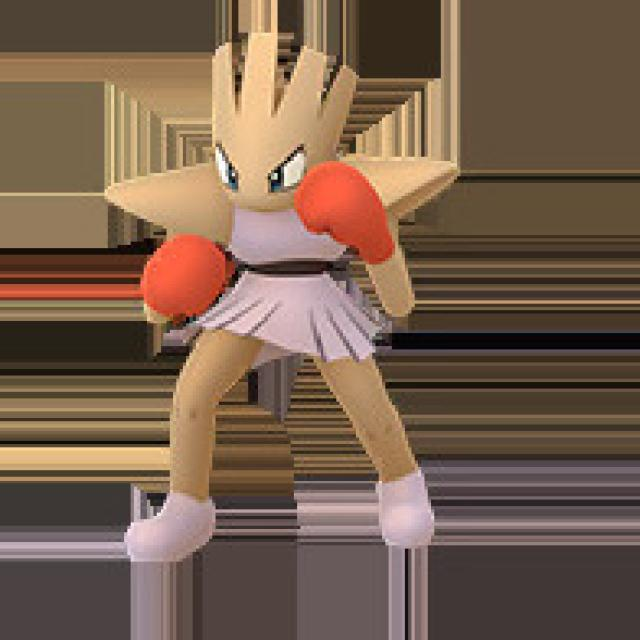Hitmonchan: (82, 32, 457, 563)
